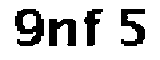5: (115, 5, 151, 54)
9: (11, 6, 45, 48)
f: (81, 4, 106, 54)
n: (47, 15, 77, 51)
